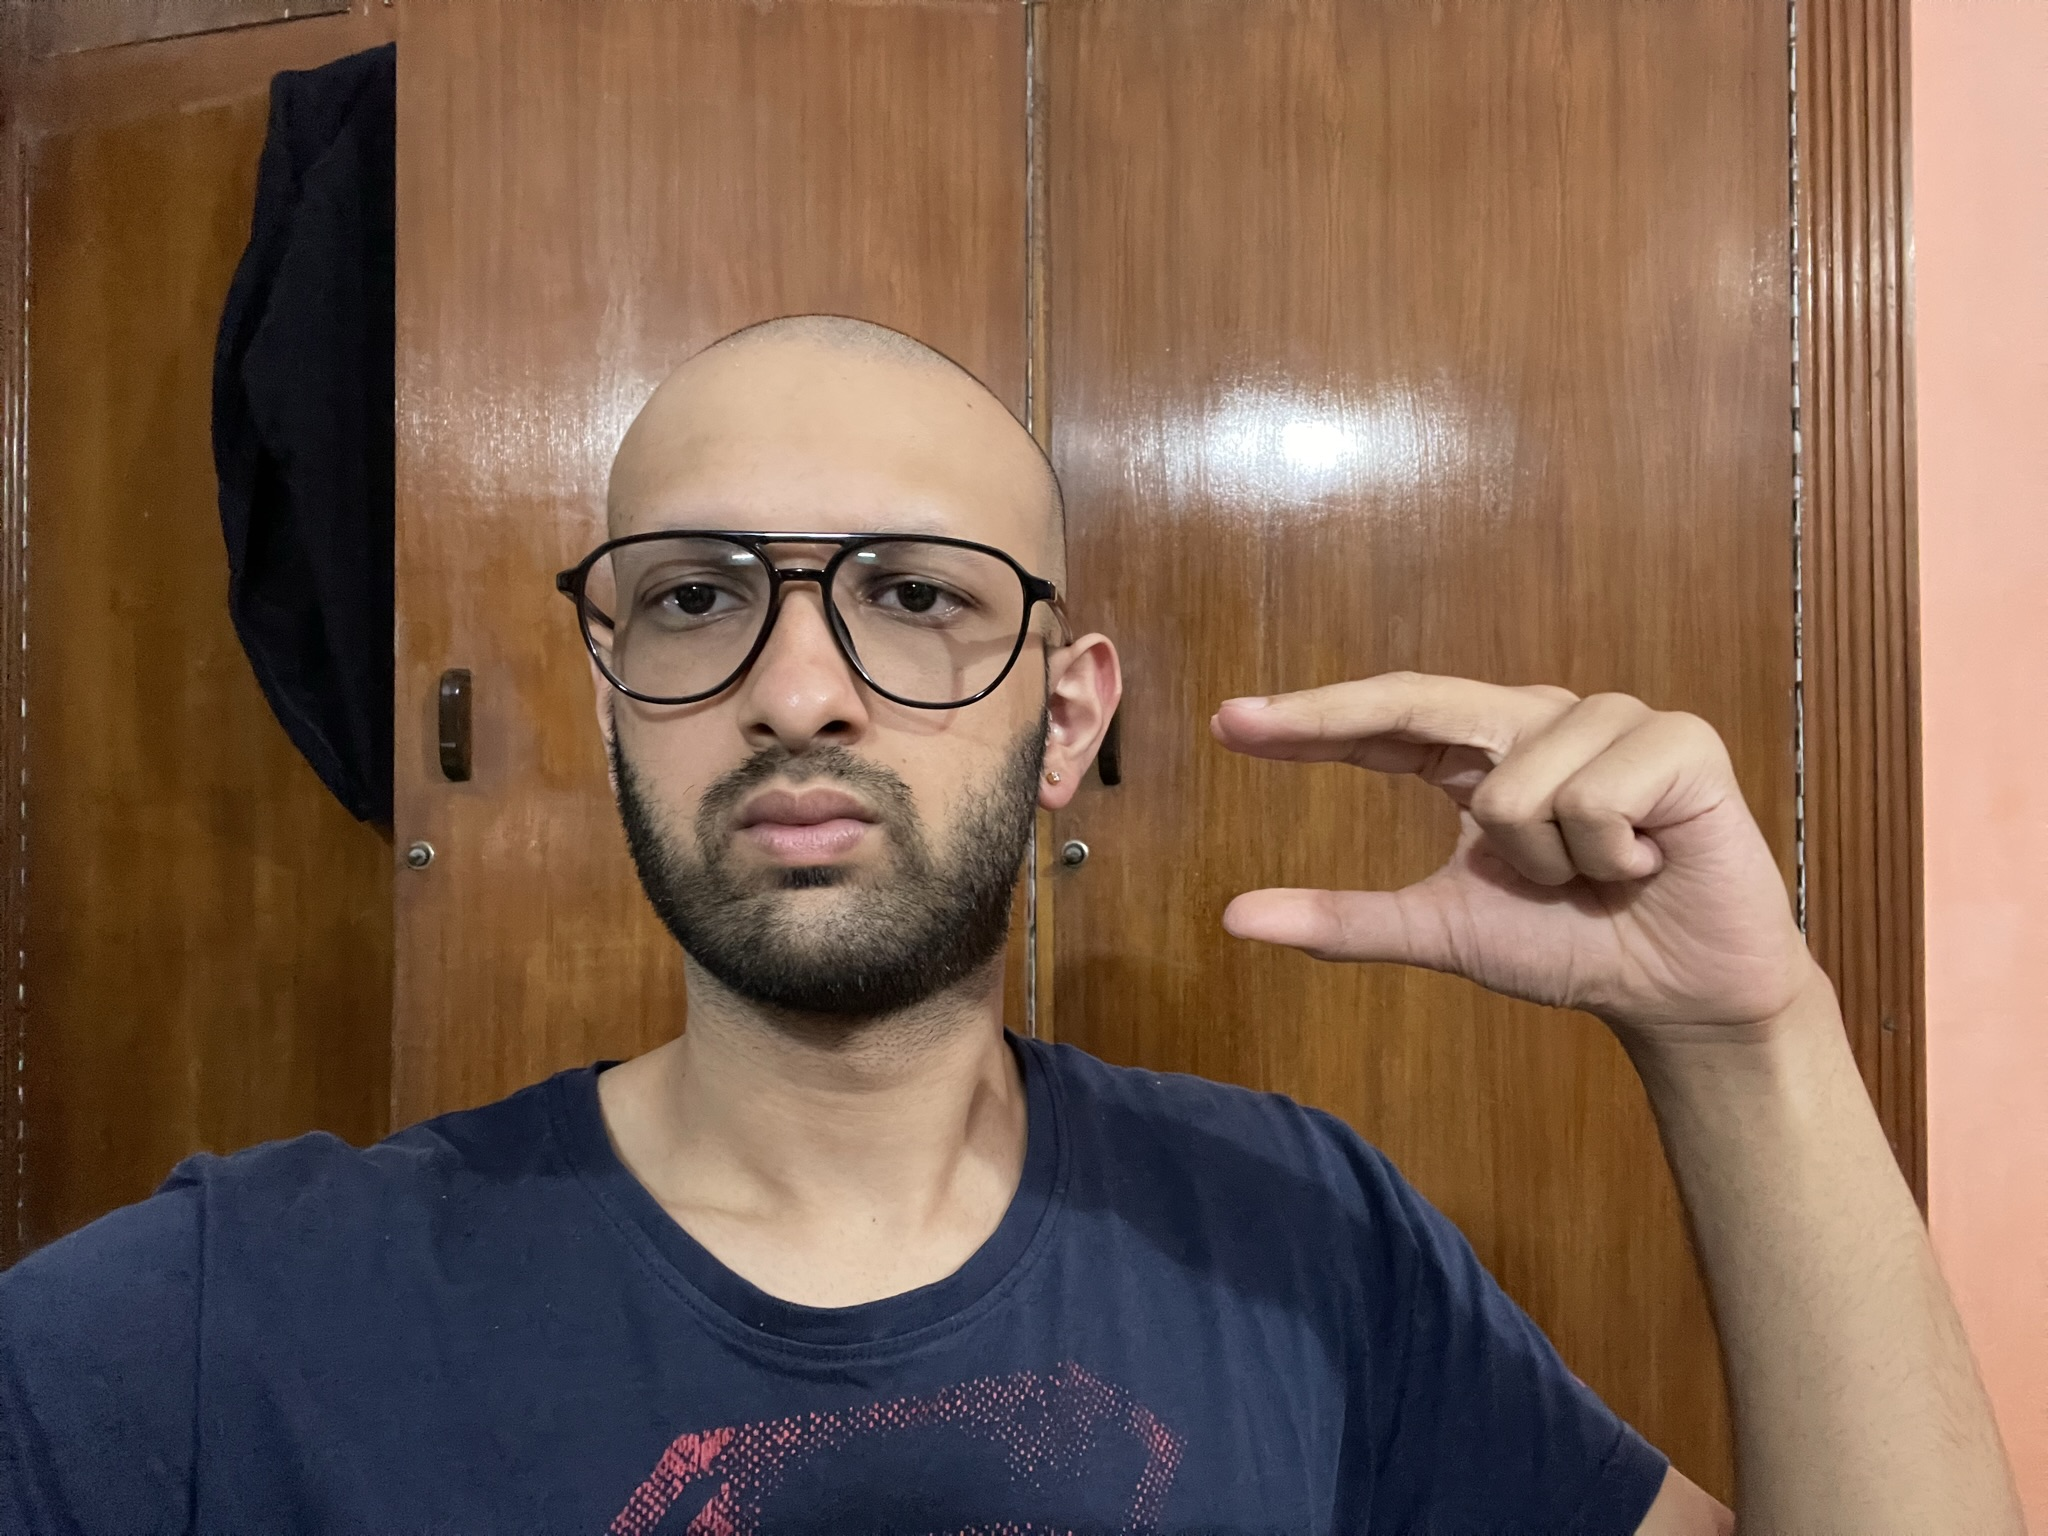No: (1193, 649, 1817, 1037)
